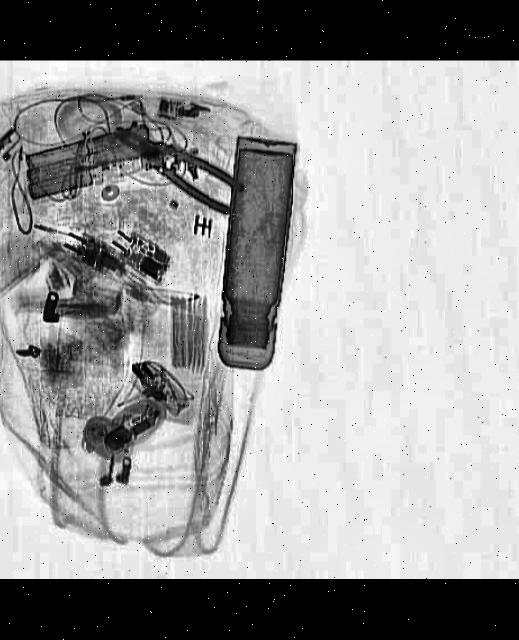Pliers: (99, 115, 246, 218)
